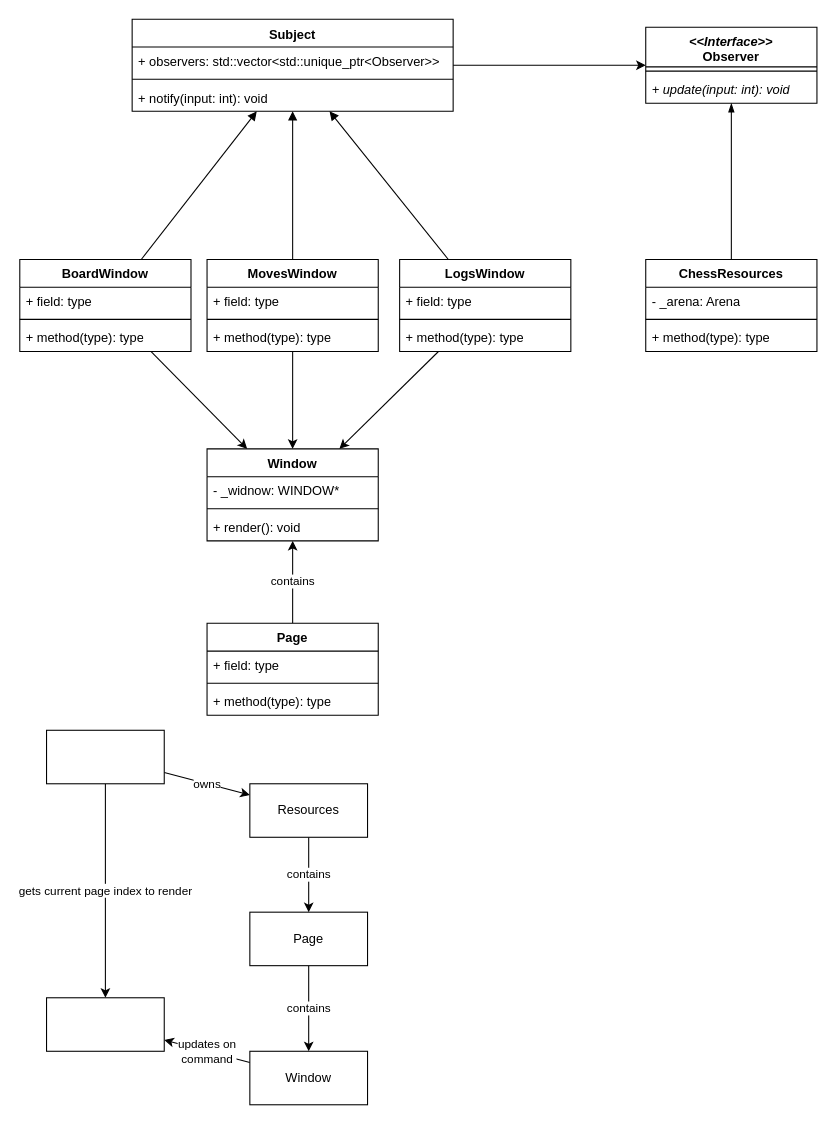
This 836x1124 diagram has some shape labels left out. The shapes that lost their labels are listed below. From the top down, each one's centre as x and y in pixels, then its label:
At pixel 104 756: "Application".
At pixel 104 1024: "PCB".
